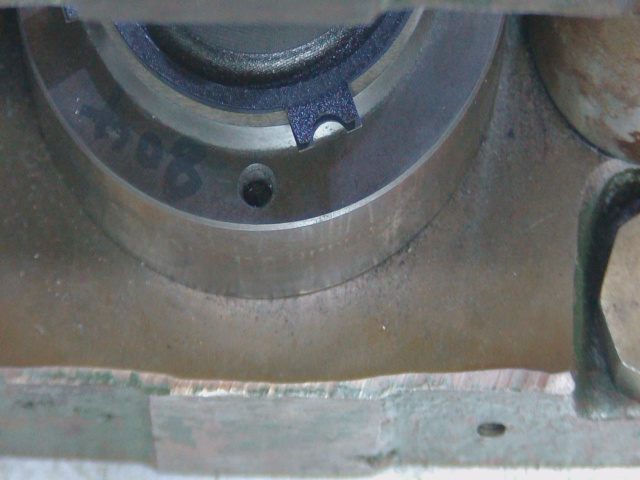HX2: (289, 85, 370, 160)
